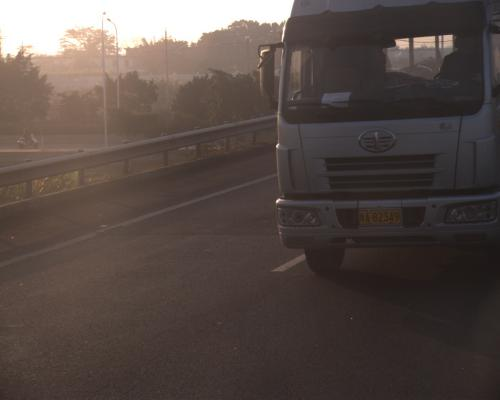Carplate: (354, 204, 409, 228)
